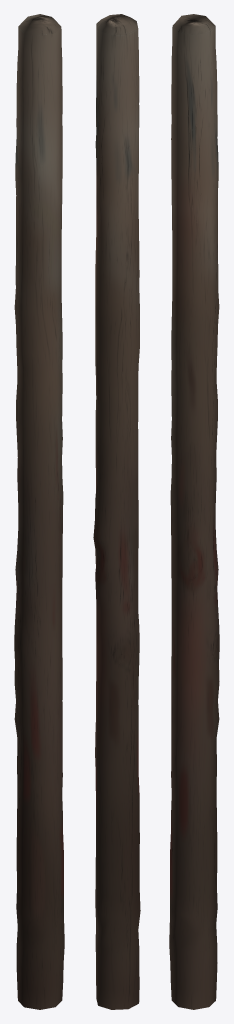
The model's file is md_utilitypole_v4.fbx.
3 views of the same model, side by side, from view 1: azimuth 90°, elevation 25°; view 2: azimuth 210°, elevation 25°; view 3: azimuth 270°, elevation 25° (orthographic).
Visible parts, largest first — view 1: PoleSubdivided; view 2: PoleSubdivided; view 3: PoleSubdivided.
Part boxes in pixels (x1=…): PoleSubdivided: x1=14, y1=14, x2=64, y2=1009; PoleSubdivided: x1=93, y1=14, x2=140, y2=1009; PoleSubdivided: x1=169, y1=14, x2=219, y2=1009.
Size of the model in its own units: 8.79 by 185 by 8.65.
1 material, 1 textured.
